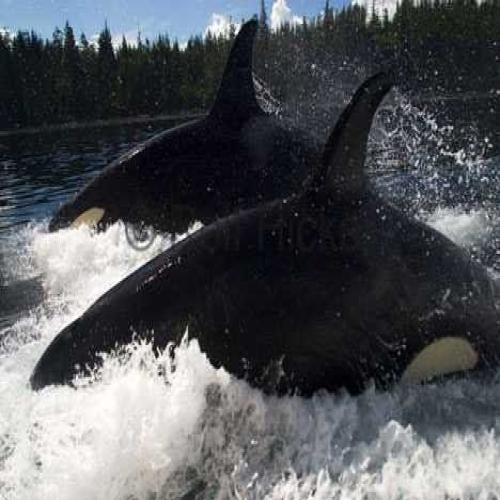killer_whale-endangered: (3, 50, 500, 408), (35, 2, 413, 246)
